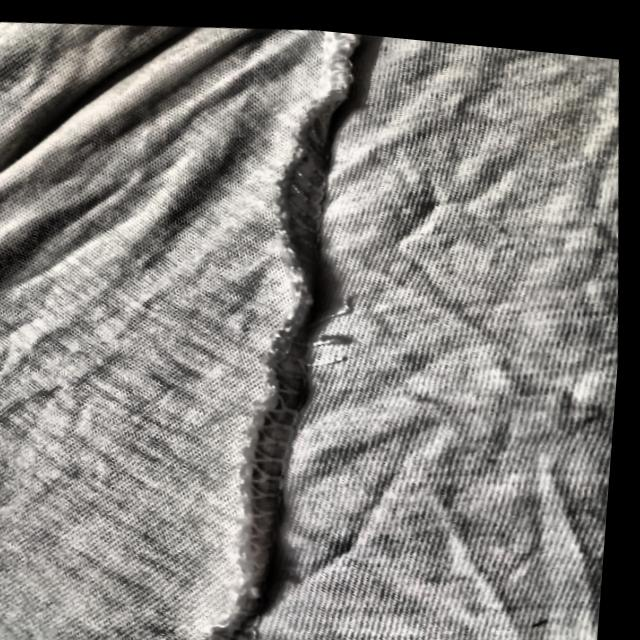Stitch: (193, 406, 394, 640), (244, 189, 405, 387)
